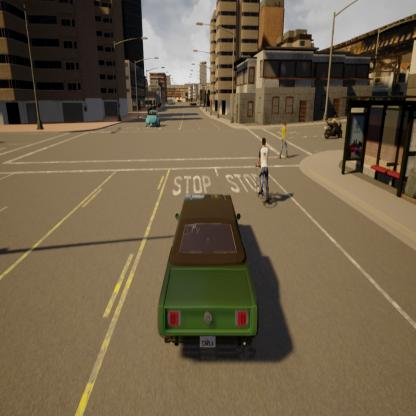Cars: (152, 188, 260, 366), (143, 106, 161, 130)
Pedestrian: (278, 114, 292, 162)
